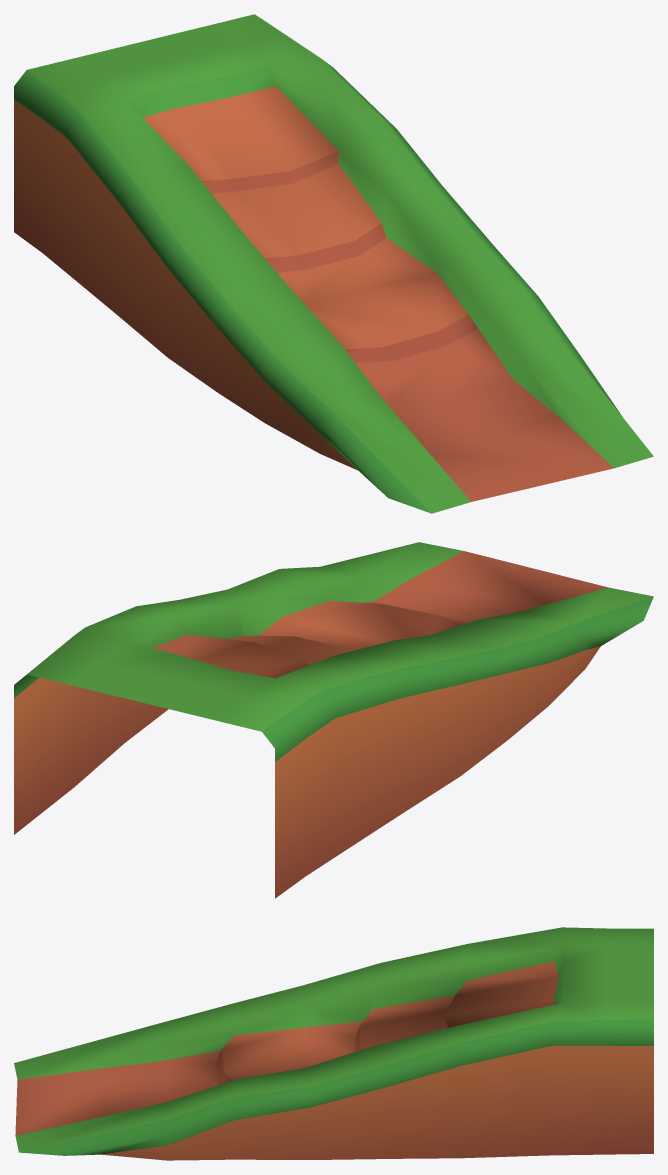
Rendered from Straight Stairs 01.FBX.
The picture shows the model from 3 angles, top to bottom: view 1: azimuth 30°, elevation 25°; view 2: azimuth 150°, elevation 25°; view 3: azimuth 270°, elevation 25°; orthographic projection. The views are drawn at different scales.
Visible parts, largest first — view 1: Straight Stairs 01; view 2: Straight Stairs 01; view 3: Straight Stairs 01.
Boxes of the visible parts, box(x1,y1,x2,y2) form: Straight Stairs 01: box(14, 14, 653, 513); Straight Stairs 01: box(14, 542, 653, 898); Straight Stairs 01: box(14, 927, 653, 1160).
Size of the model in its own units: 559 by 300 by 1343.
1 material, 1 textured.
